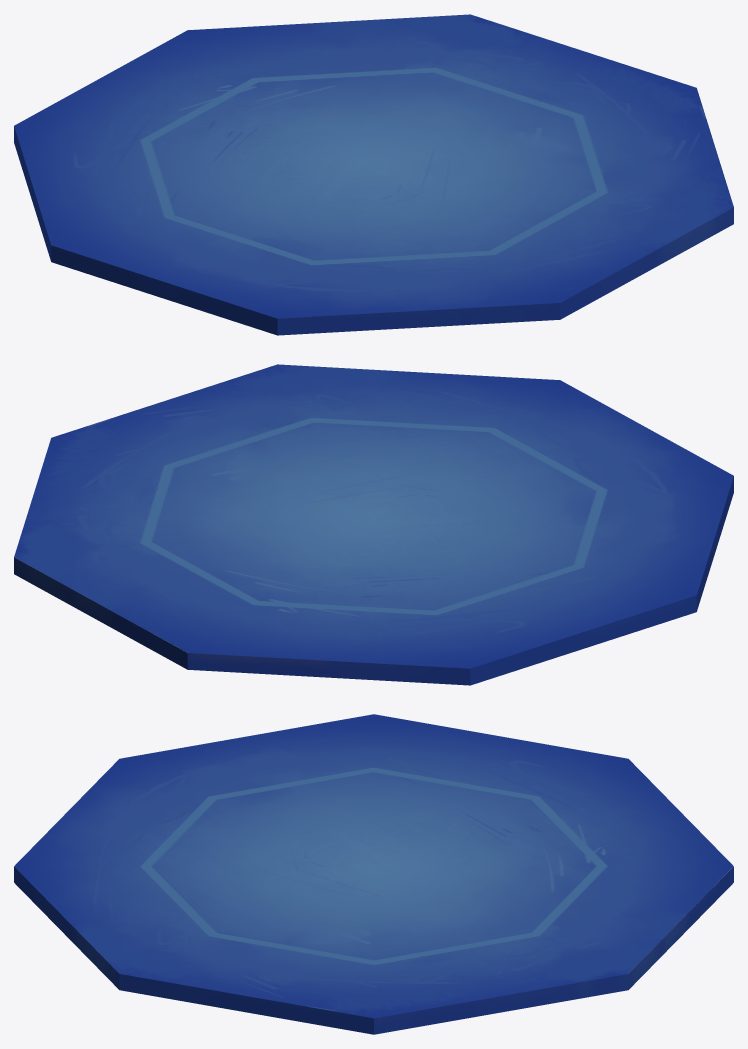
Rendered from SM_RingColisee.fbx.
3 renders of one model, top to bottom at view 1: azimuth 30°, elevation 25°; view 2: azimuth 150°, elevation 25°; view 3: azimuth 270°, elevation 25°, orthographic. The views are drawn at different scales.
Visible parts, largest first — view 1: polySurface1; view 2: polySurface1; view 3: polySurface1.
Boxes of the visible parts, box(x1,y1,x2,y2) form: polySurface1: box(14, 14, 733, 335); polySurface1: box(14, 364, 733, 685); polySurface1: box(14, 714, 733, 1034).
Bounding box in the file's own units: 22.03 × 0.5498 × 22.03.
Materials: 1 (1 with a texture image).
